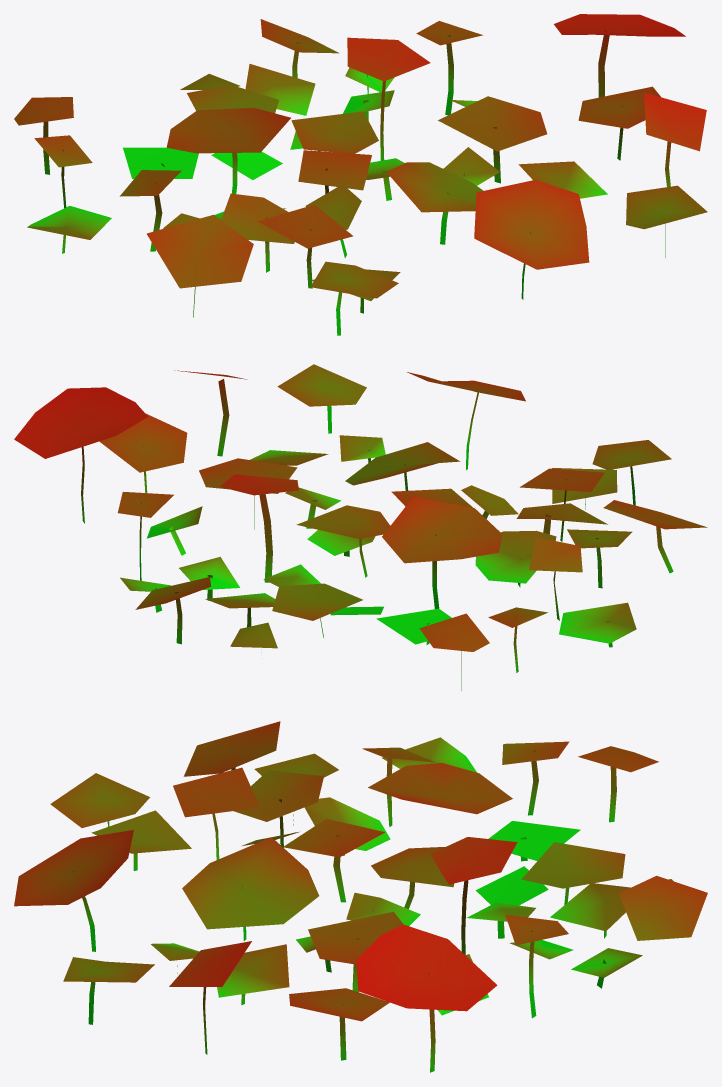
The model's file is Var3_LOD1.fbx.
3 views of the same model, one above another, from view 1: azimuth 30°, elevation 25°; view 2: azimuth 150°, elevation 25°; view 3: azimuth 270°, elevation 25° (orthographic). The views are drawn at different scales.
Visible parts, largest first — view 1: _670f_Var3_LOD1; view 2: _670f_Var3_LOD1; view 3: _670f_Var3_LOD1.
Part boxes in pixels (x1,y1,x2,y2): _670f_Var3_LOD1: (14,14,707,335); _670f_Var3_LOD1: (14,364,707,690); _670f_Var3_LOD1: (14,721,707,1072).
Bounding box in the file's own units: 40.17 × 7.08 × 35.48.
